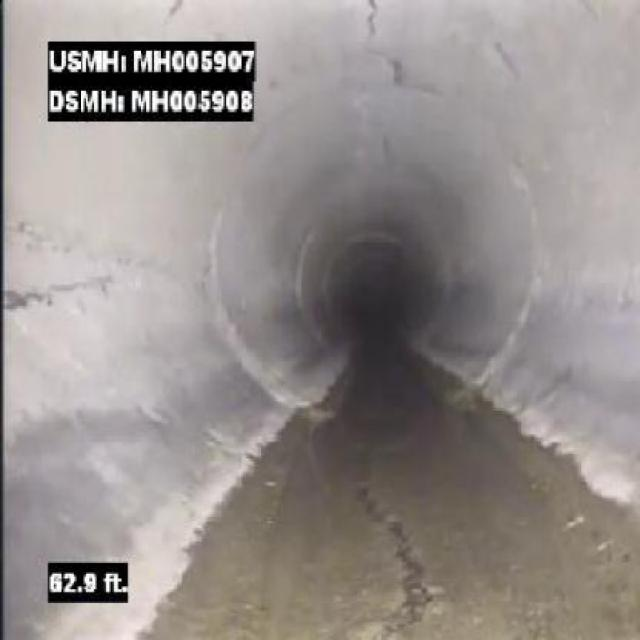Crack: (351, 482, 437, 632), (3, 272, 112, 314), (362, 0, 406, 88)
